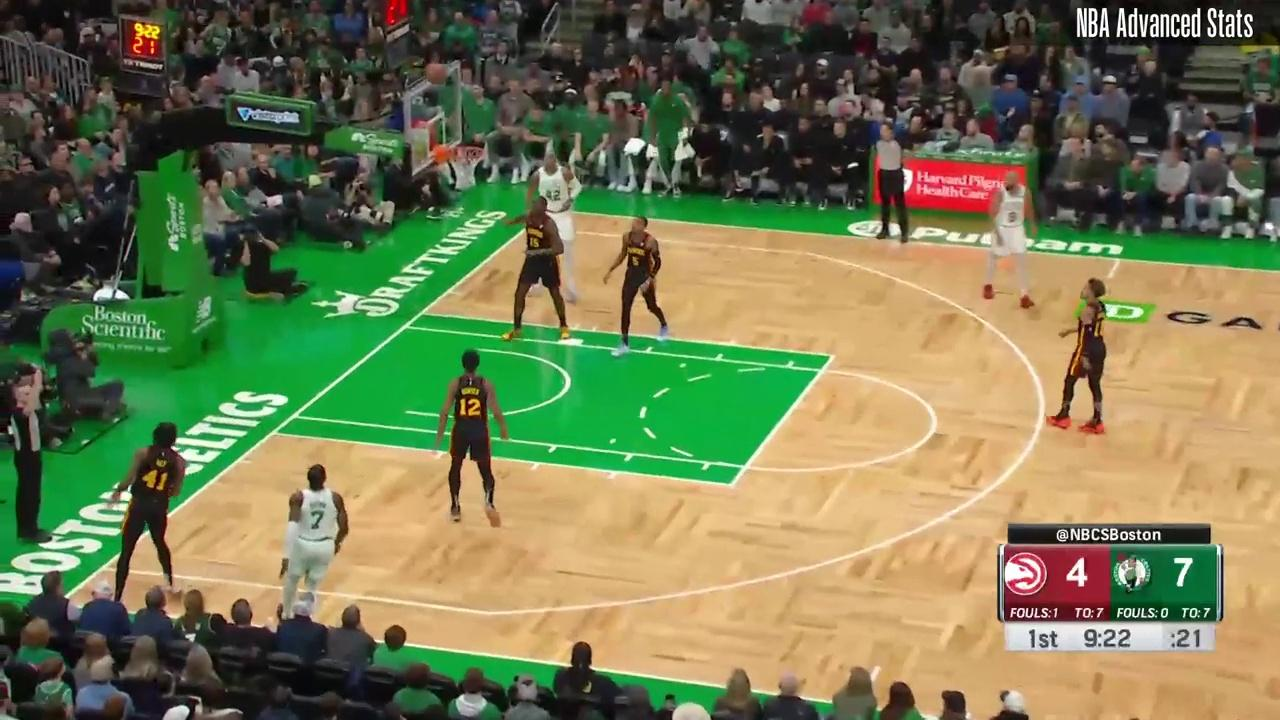3_sx: (98, 560, 110, 574)
free_adx: (826, 350, 838, 362)
free_asx: (727, 480, 737, 490)
free_bdx: (417, 308, 427, 317)
free_bsx: (267, 428, 279, 437)
mid_dx: (1104, 272, 1115, 282)
mid_sx: (871, 659, 885, 673)
referee: (10, 369, 54, 544), (873, 120, 911, 244)
team: (277, 463, 350, 627), (527, 151, 581, 305), (984, 170, 1037, 311)
team1: (109, 420, 186, 605), (435, 349, 506, 528), (500, 196, 572, 341), (603, 214, 671, 358), (1047, 277, 1107, 436)
timer: (1082, 625, 1135, 652)
